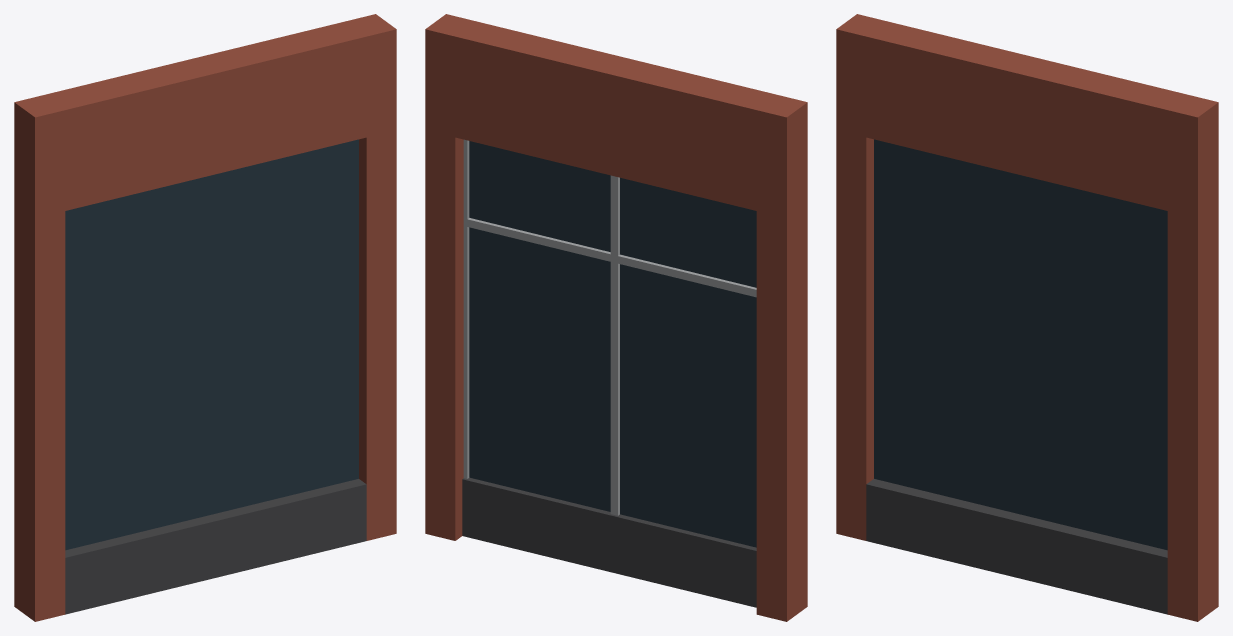
Rendered from fk_storefront_g40.glb.
3 renders of one model, left to right at view 1: azimuth 30°, elevation 25°; view 2: azimuth 150°, elevation 25°; view 3: azimuth 330°, elevation 25°, orthographic.
Visible parts, largest first — view 1: fk_storefront_g40-col; view 2: fk_storefront_g40-col; view 3: fk_storefront_g40-col.
Boxes of the visible parts, box(x1,y1,x2,y2) form: fk_storefront_g40-col: box(14, 14, 396, 621); fk_storefront_g40-col: box(425, 14, 807, 621); fk_storefront_g40-col: box(836, 14, 1218, 621).
Size of the model in its own units: 3 by 4 by 0.3.
